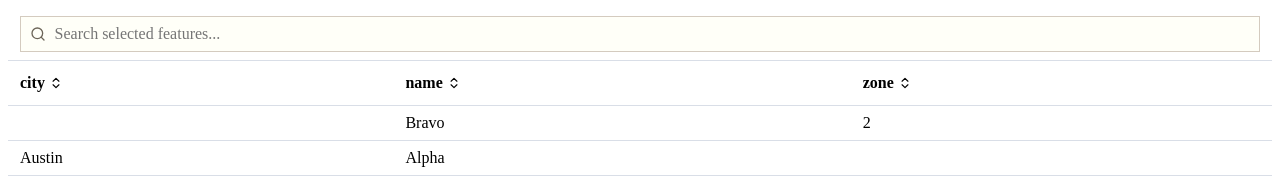
SelectedFeaturesTable › searches visible properties and host-provided feature metadata
The width and height of the screenshot is (1280, 193).
Type "alpha" into the search field labelled "Search selected features" at x=640, y=34, box [20,16,1260,52]
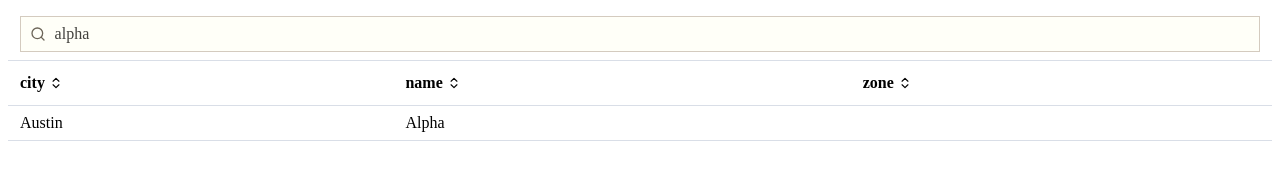
Expected: the cell "Alpha" is shown, [393,106,851,140]
Now the number of rows with test id "selected-feature-row" is 1, box [8,106,1272,140]
Replace the text in the search field named "Search selected features" with "south" at x=640, y=34, box [20,16,1260,52]
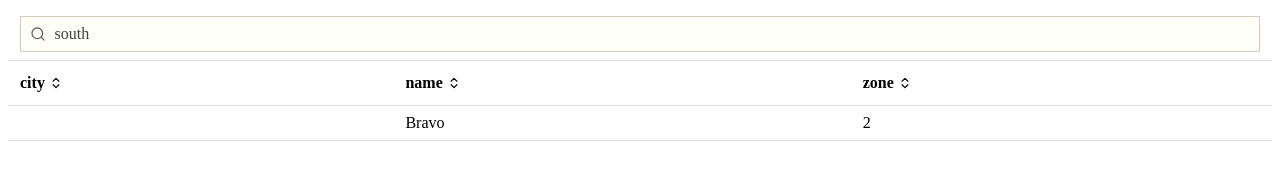
Now the number of rows with test id "selected-feature-row" is 1, box [8,106,1272,140]
Now the cell "Bravo" is shown, box [393,106,851,140]
Replace the text in the search field named "Search selected features" with "missing" at x=640, y=34, box [20,16,1260,52]
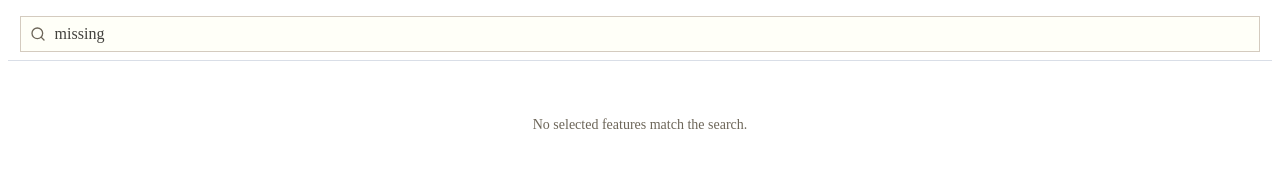
Now the text "No selected features match the search." is shown, box [533,117,747,132]
